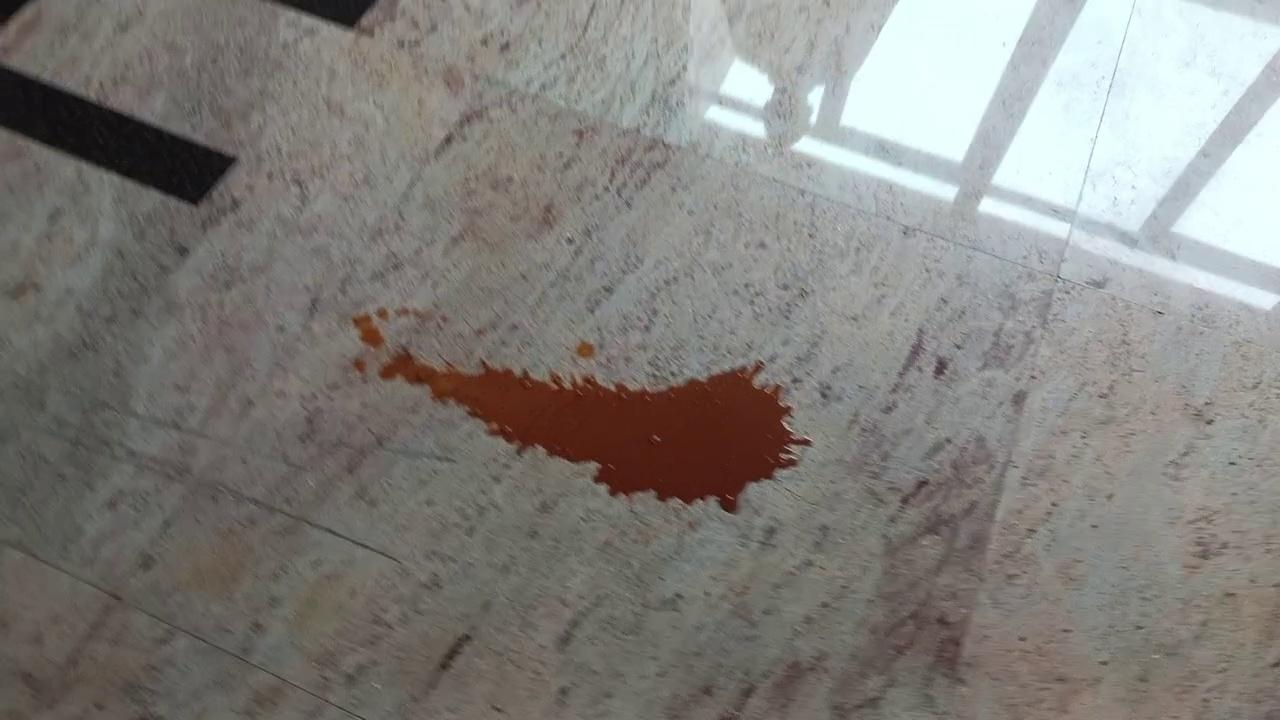dirty_floor: (342, 306, 813, 515)
